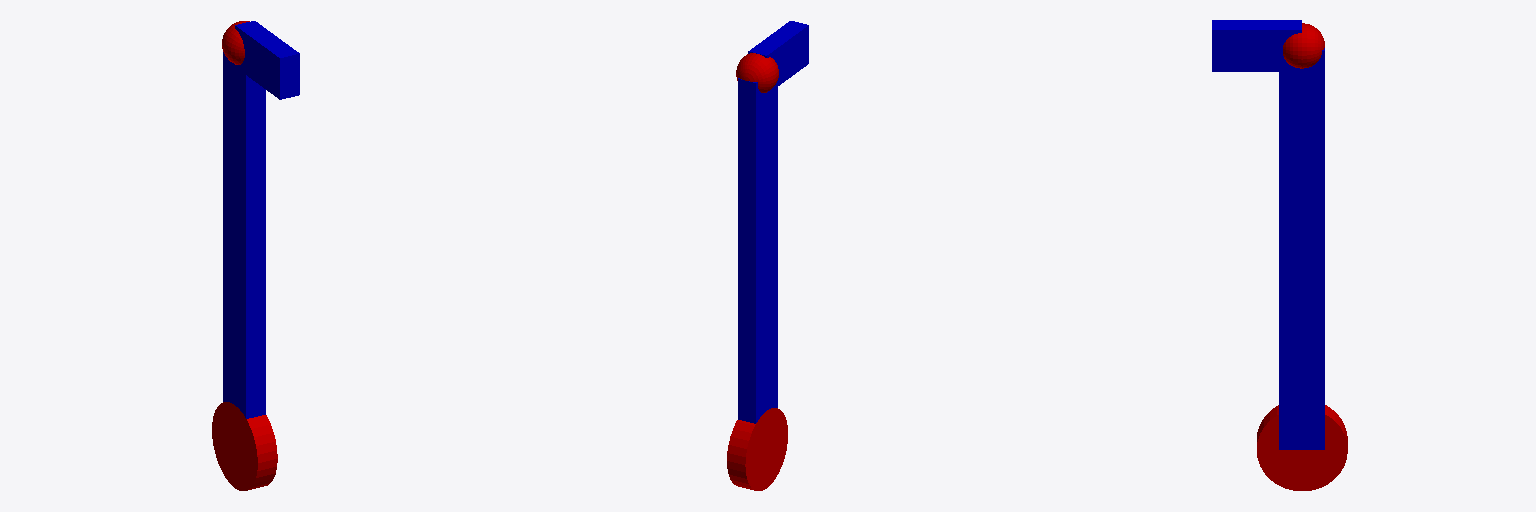
robot.urdf — TwoLinkStruct966934650:
<?xml version="1.0"?>
<robot  name="TwoLinkStruct966934650" >
 <material  name="blue" >
  <color  rgba="0 0 0.8 1.0" />
 </material>
 <material  name="red" >
  <color  rgba="0.8 0 0 1.0" />
 </material>
 <link  name="base_link" >
  <visual >
   <origin  rpy="0 1.5707 0"  xyz="0 0 0" />
   <material  name="red" />
   <geometry >
    <cylinder  length="0.05"  radius="0.1" />
   </geometry>
  </visual>
 </link>
 <joint  type="revolute"  name="joint1" >
  <parent  link="base_link" />
  <child  link="link1" />
  <origin  xyz="0 0 0"  rpy="0 0 0" />
  <axis  xyz="1 0 0" />
 </joint>
 <link  name="link1" >
  <inertial >
   <origin  rpy="0 0 0"  xyz="0 0 0.4815451618460678" />
   <mass  value="3.4777736372491557" />
   <inertia  ixy="0.0"  iyy="0.0014490723488538152"  izz="0.26953991067521327"  ixz="0.0"  ixx="0.26953991067521327"  iyz="0.0" />
  </inertial>
  <visual >
   <origin  rpy="0 0 0"  xyz="0 0 0.4815451618460678" />
   <material  name="blue" />
   <geometry >
    <box  size="0.05 0.1 0.9630903236921357" />
   </geometry>
  </visual>
 </link>
 <joint  type="fixed"  name="joint-joint-1" >
  <parent  link="link1" />
  <child  link="joint-link-1" />
  <origin  xyz="0 0 0.9630903236921357"  rpy="1.5707 0 0" />
  <axis  xyz="1 0 0" />
 </joint>
 <link  name="joint-link-1" >
  <inertial >
   <origin  rpy="0 0 0"  xyz="0 0 0" />
   <mass  value="2.230662163872831" />
   <inertia  ixy="0"  iyy="0"  izz="0"  ixz="0"  ixx="0"  iyz="0" />
  </inertial>
  <visual >
   <origin  rpy="0 0 0"  xyz="0 0 0" />
   <material  name="red" />
   <geometry >
    <sphere  radius="0.05" />
   </geometry>
  </visual>
 </link>
 <joint  type="revolute"  name="joint2" >
  <parent  link="link1" />
  <child  link="link2" />
  <origin  xyz="0 0 0.9630903236921357"  rpy="1.5707 0 0" />
  <axis  xyz="1 0 0" />
 </joint>
 <link  name="link2" >
  <inertial >
   <origin  rpy="0 0 0"  xyz="0 0 0.09863314207415046" />
   <mass  value="0.5803779436174585" />
   <inertia  ixy="0.0"  iyy="0.0014490723488538152"  izz="0.012002372643410612"  ixz="0.0"  ixx="0.012002372643410612"  iyz="0.0" />
  </inertial>
  <visual >
   <origin  rpy="0 0 0"  xyz="0 0 0.09863314207415046" />
   <material  name="blue" />
   <geometry >
    <box  size="0.05 0.1 0.1972662841483009" />
   </geometry>
  </visual>
 </link>
 <joint  type="fixed"  name="eef_joint" >
  <parent  link="link2" />
  <child  link="eef" />
  <origin  xyz="0 0 0.1972662841483009"  rpy="0 0 0" />
 </joint>
 <link  name="eef" >
  <inertial >
   <origin  rpy="0 0 0"  xyz="0 0 0" />
   <mass  value="1" />
   <inertia  ixy="0"  iyy="0"  izz="0"  ixz="0"  ixx="0"  iyz="0" />
  </inertial>
 </link>
 <transmission  name="motor1" >
  <type  xmltext="SimpleTransmission" >
   SimpleTransmission
  </type>
  <actuator  name="motor1" >
   <mechanicalreduction  xmltext="1" >
    1
   </mechanicalreduction>
  </actuator>
  <joint  name="joint1" />
 </transmission>
 <transmission  name="motor2" >
  <type  xmltext="SimpleTransmission" >
   SimpleTransmission
  </type>
  <actuator  name="motor2" >
   <mechanicalreduction  xmltext="1" >
    1
   </mechanicalreduction>
  </actuator>
  <joint  name="joint2" />
 </transmission>
</robot>

<!-- {'carti': array([-0.1 ,  0.14,  0.85]), 'cartd': array([-0.1 ,  0.32,  1.29]), 'tau_mu': 0.9835421322796729, 'b0': 0.23056307573172516, 'Km': 3.2248673387885907, 'k_velocity': 68.99947802530292, 'tau_max_m': 1.4614201404221017, 'omega_max_m': 1843.981589435359, 'gear_ratio': 9.586102175130856, 'Kp': 18.598038250104565, 'Kd': 69.68505846707774, 'm_m': 2.230662163872831, 'l1': 0.9630903236921357, 'l2': 0.1972662841483009, 'k1': 3402.688529837761, 'k2': 102419576.86069717, 'k3': 210919167.0092267}-->

--- What the picture shows (computed from the rendered views, not written in the file) ---
3 views of the same robot in one strip: view 1: azimuth 30°, elevation 25°; view 2: azimuth 150°, elevation 25°; view 3: azimuth 270°, elevation 25° (orthographic).
Robot: TwoLinkStruct966934650 — 5 links, 4 joints (2 revolute, 2 fixed); root link base_link; default pose: all joints at 0.
Visible links, largest first — view 1: link1, base_link, link2, joint-link-1; view 2: link1, base_link, link2, joint-link-1; view 3: link1, base_link, link2, joint-link-1.
Link boxes in pixels (left/top/right/bottom): link1: left=223, top=52, right=265, bottom=418; base_link: left=212, top=402, right=277, bottom=490; link2: left=235, top=21, right=299, bottom=99; joint-link-1: left=222, top=21, right=249, bottom=64; link1: left=738, top=78, right=777, bottom=423; base_link: left=727, top=408, right=787, bottom=490; link2: left=748, top=21, right=808, bottom=93; joint-link-1: left=736, top=53, right=778, bottom=92; link1: left=1279, top=48, right=1324, bottom=449; base_link: left=1257, top=405, right=1347, bottom=490; link2: left=1212, top=20, right=1301, bottom=71; joint-link-1: left=1283, top=23, right=1324, bottom=68.
Bounding box of the posed robot: 0.1 × 0.2973 × 1.11 m (x, y, z).
Geometry: primitives only (box / cylinder / sphere), no mesh files.
